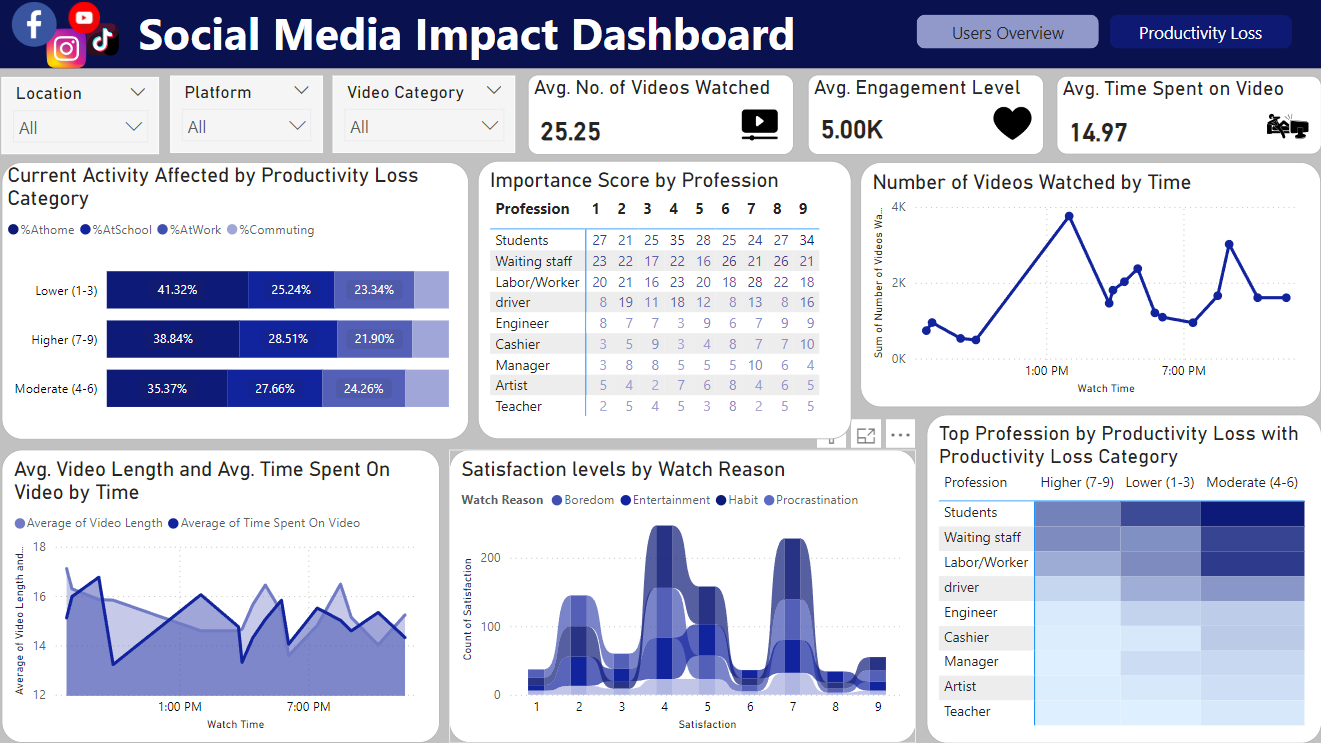

Layout of this report page (visuals, bound fields, positions):
{"tool":"powerbi","page":{"name":"Productivity Loss","canvas":[1280,720],"ordinal":1},"visuals":[{"type":"textbox","box":[0,0,1280,68.8],"z":0},{"type":"image","box":[74.8,20.5,50.7,41],"z":1000},{"type":"image","box":[41,24.1,48.3,51.9],"z":2000},{"type":"image","box":[1.2,0,65.1,53.1],"z":3000},{"type":"image","box":[61.5,0,42.2,39.8],"z":4000},{"type":"cardVisual","title":"Avg. No. of Videos Watched","fields":{"Data":["Avg(Social_Media.Number of Videos Watched)"]},"box":[510.3,74.8,257,77.2],"z":5000},{"type":"barChart","title":"Current Activity Affected by Productivity Loss Category","fields":{"Category":["Social_Media.Productivity Loss"],"Y":["Social_Media.%Athome","Social_Media.%AtSchool","Social_Media.%AtWork","Social_Media.%Commuting"]},"box":[2.4,159.3,451.2,267.8],"z":6000},{"type":"cardVisual","title":"Avg. Engagement Level","fields":{"Data":["Avg(Social_Media.Engagement)"]},"box":[780.6,74.8,228,77.2],"z":7000},{"type":"cardVisual","title":"Avg. Time Spent on Video","fields":{"Data":["Avg(Social_Media.Time Spent On Video)"]},"box":[1020.6,76,255.8,76],"z":8000},{"type":"ribbonChart","title":"Satisfaction levels by Watch Reason","fields":{"Category":["Social_Media.Satisfaction"],"Y":["CountNonNull(Social_Media.Satisfaction)"],"Series":["Social_Media.Watch Reason"]},"box":[434.3,436.7,451.2,283.5],"z":9000},{"type":"pivotTable","title":"Top Profession by Productivity Loss with Productivity Loss Category","fields":{"Values":["CountNonNull(Social_Media.ProductivityLoss)"],"Rows":["Social_Media.Profession"],"Columns":["Social_Media.Productivity Loss Category"]},"box":[895.2,403,381.2,317.3],"z":10000},{"type":"lineChart","title":"Number of Videos Watched by Time","fields":{"Category":["Social_Media.Watch Time"],"Y":["Sum(Social_Media.Number of Videos Watched)"]},"box":[831.2,159.3,445.2,236.5],"z":11000},{"type":"pivotTable","title":"Importance Score by Profession","fields":{"Rows":["Social_Media.Profession"],"Values":["CountNonNull(Social_Media.Importance Score)"],"Columns":["Social_Media.Importance Score"]},"box":[462.1,158,360.7,269],"z":12000},{"type":"areaChart","title":"Avg. Video Length and Avg. Time Spent On Video by Time","fields":{"Category":["Social_Media.Watch Time"],"Y":["Avg(Social_Media.Video Length)","Avg(Social_Media.Time Spent On Video)"]},"box":[2.4,436.7,423.5,283.5],"z":13000},{"type":"slicer","fields":{"Values":["Social_Media.Platform"]},"box":[165.3,76,147.2,74.8],"z":14000},{"type":"slicer","fields":{"Values":["Social_Media.Location"]},"box":[2.4,77.2,152,74.8],"z":15000},{"type":"slicer","fields":{"Values":["Social_Media.Video Category"]},"box":[322.1,76,176.1,74.8],"z":16000},{"type":"actionButton","box":[1166.6,0,113.4,26.5],"z":17000},{"type":"pageNavigator","box":[811.9,20.5,342.6,32.6],"z":18000}]}

Visuals, with their boxes in screenshot pixels (x1, y1, x2, y2), scaled from the page's 1280x720 canvas onto the 1321x743 screenshot:
textbox: select_region(0, 0, 1320, 71)
image: select_region(77, 21, 130, 63)
image: select_region(42, 25, 92, 78)
image: select_region(1, 0, 68, 55)
image: select_region(63, 0, 107, 41)
"Avg. No. of Videos Watched" cardVisual: select_region(527, 77, 792, 157)
"Current Activity Affected by Productivity Loss Category" barChart: select_region(2, 164, 468, 441)
"Avg. Engagement Level" cardVisual: select_region(806, 77, 1041, 157)
"Avg. Time Spent on Video" cardVisual: select_region(1053, 78, 1317, 157)
"Satisfaction levels by Watch Reason" ribbonChart: select_region(448, 451, 914, 742)
"Top Profession by Productivity Loss with Productivity Loss Category" pivotTable: select_region(924, 416, 1317, 742)
"Number of Videos Watched by Time" lineChart: select_region(858, 164, 1317, 408)
"Importance Score by Profession" pivotTable: select_region(477, 163, 849, 441)
"Avg. Video Length and Avg. Time Spent On Video by Time" areaChart: select_region(2, 451, 440, 742)
slicer - Social_Media.Platform: select_region(171, 78, 323, 156)
slicer - Social_Media.Location: select_region(2, 80, 159, 157)
slicer - Social_Media.Video Category: select_region(332, 78, 514, 156)
actionButton: select_region(1204, 0, 1320, 27)
pageNavigator: select_region(838, 21, 1191, 55)
